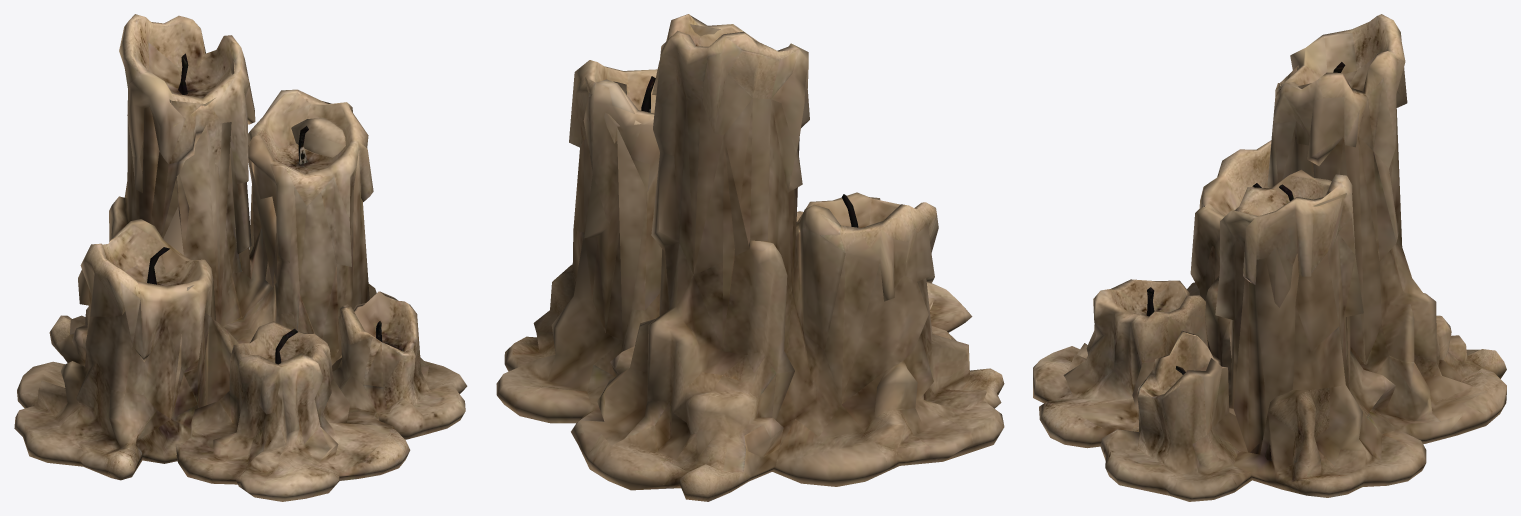
The model's file is h_candle_melted.glb.
The picture shows the model from 3 angles, left to right: view 1: azimuth 30°, elevation 25°; view 2: azimuth 150°, elevation 25°; view 3: azimuth 270°, elevation 25°; orthographic projection. The views are drawn at different scales.
Visible parts, largest first — view 1: h_candle_melted; view 2: h_candle_melted; view 3: h_candle_melted.
Part boxes in pixels (x1=…): h_candle_melted: x1=14, y1=14, x2=467, y2=501; h_candle_melted: x1=496, y1=14, x2=1004, y2=501; h_candle_melted: x1=1033, y1=14, x2=1506, y2=501.
Bounding box in the file's own units: 0.2964 × 0.2554 × 0.2964.
Materials: 1 (1 with a texture image).
